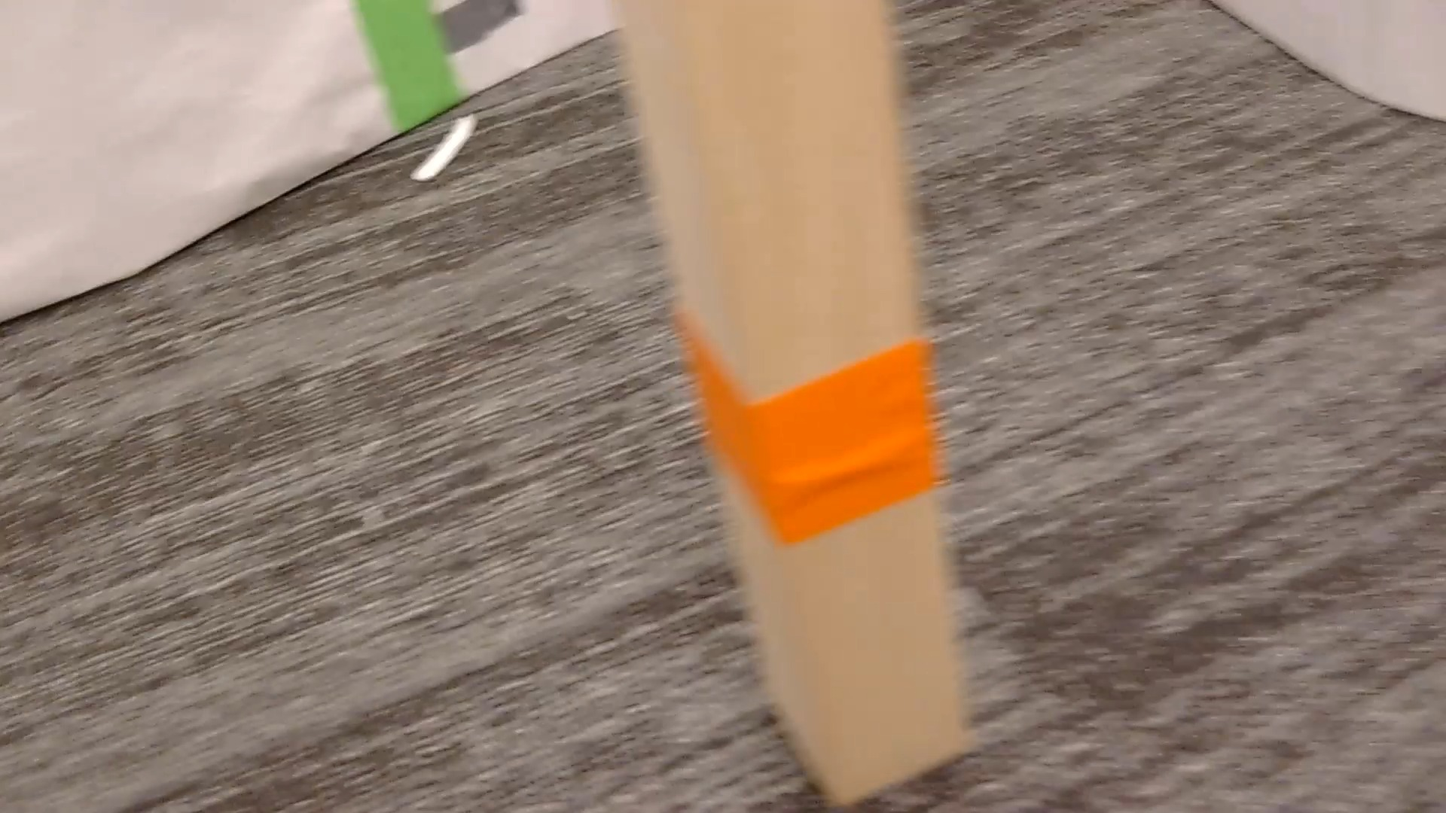Wooden Block: (613, 0, 967, 803)
